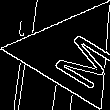M_NW: (33, 19, 108, 86)
